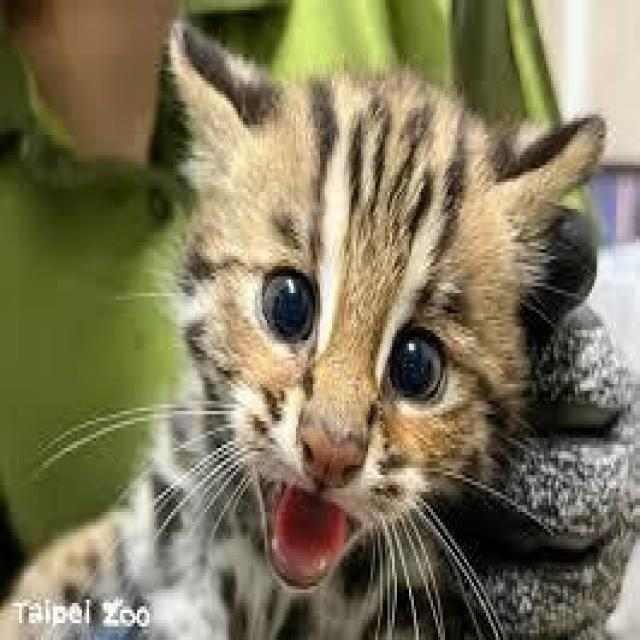leopard: (174, 25, 544, 556)
